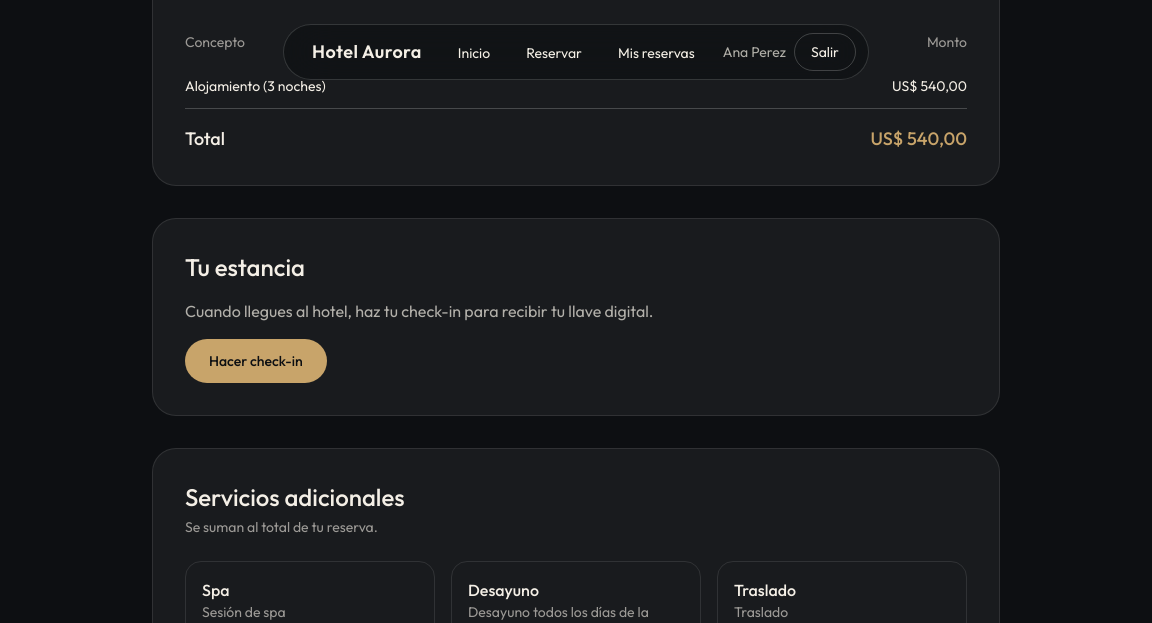
Test: Reservation management panel › asks for confirmation before checking out, then links to the invoice
(page scrolled)
Click the button "Hacer check-in" at (256, 361), box [185,339,327,383]
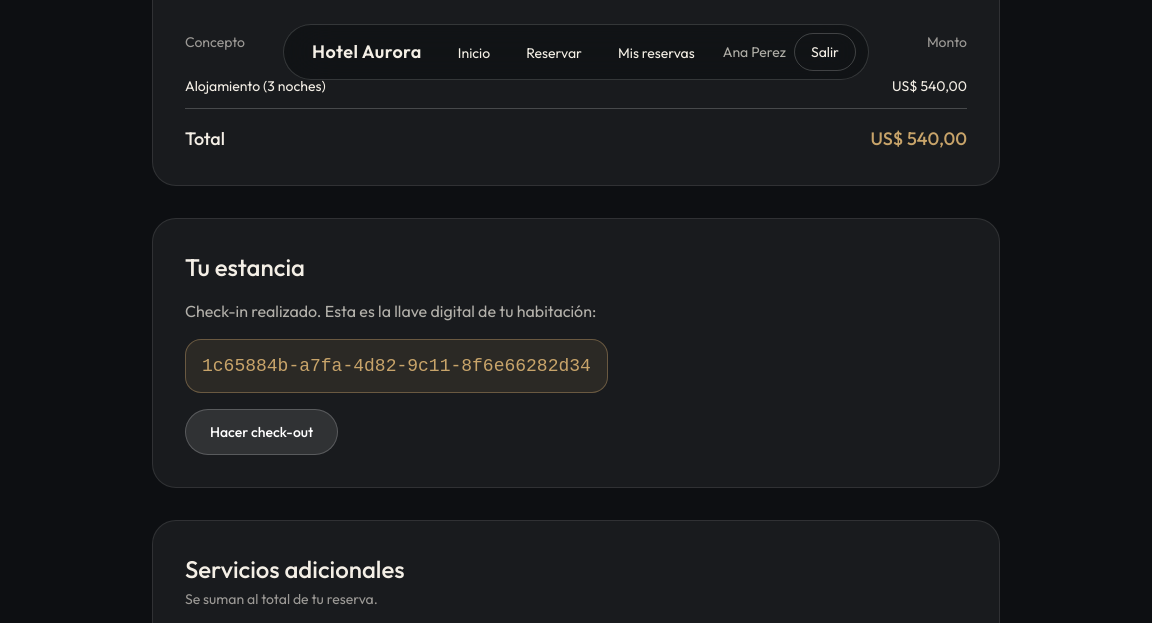
Result: the text named "Llave digital" is shown at [185,339,608,393]
Click the button "Hacer check-out" at (262, 432), box [185,409,338,455]
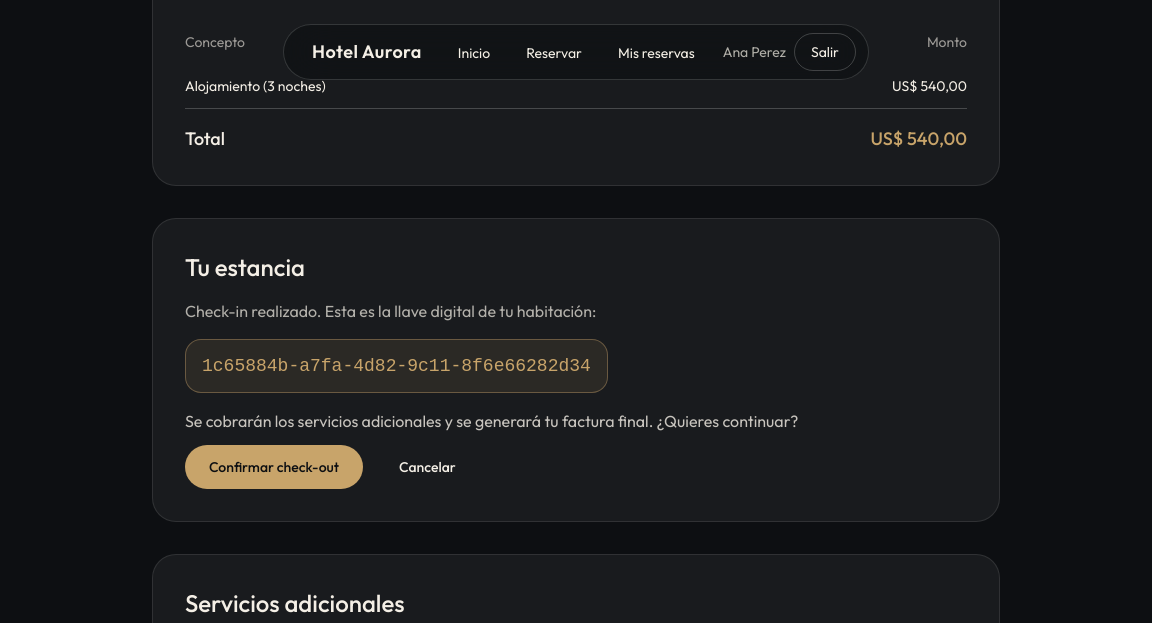
Click the button "Cancelar" at (427, 467), box [375,445,480,489]
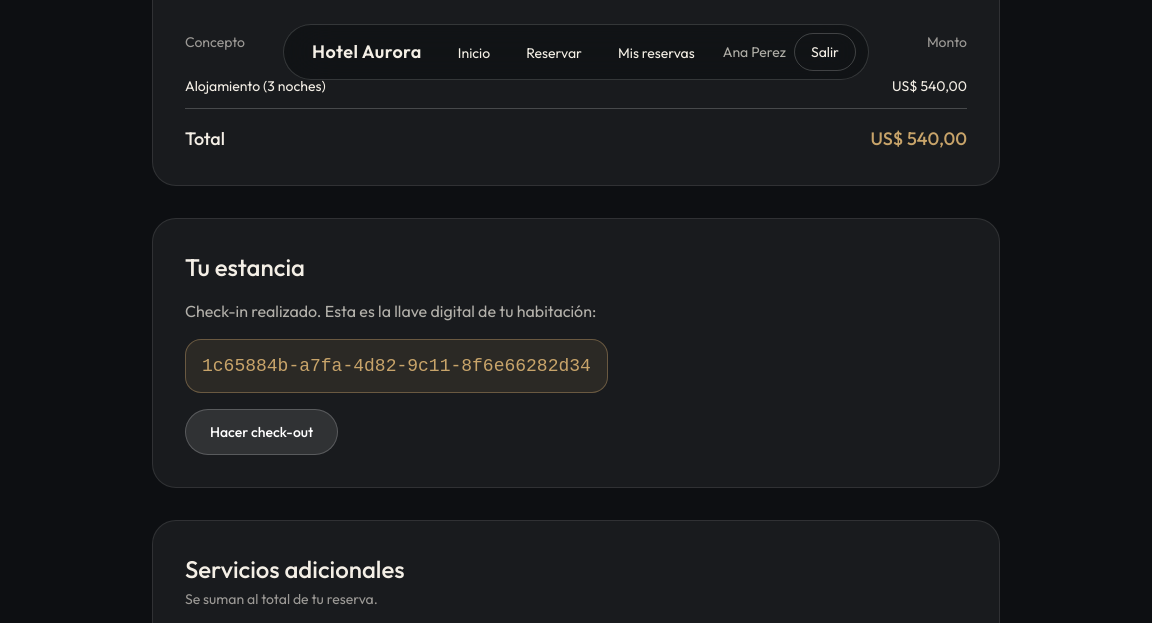
Result: the button "Hacer check-out" is shown
Click the button "Hacer check-out" at (262, 432), box [185,409,338,455]
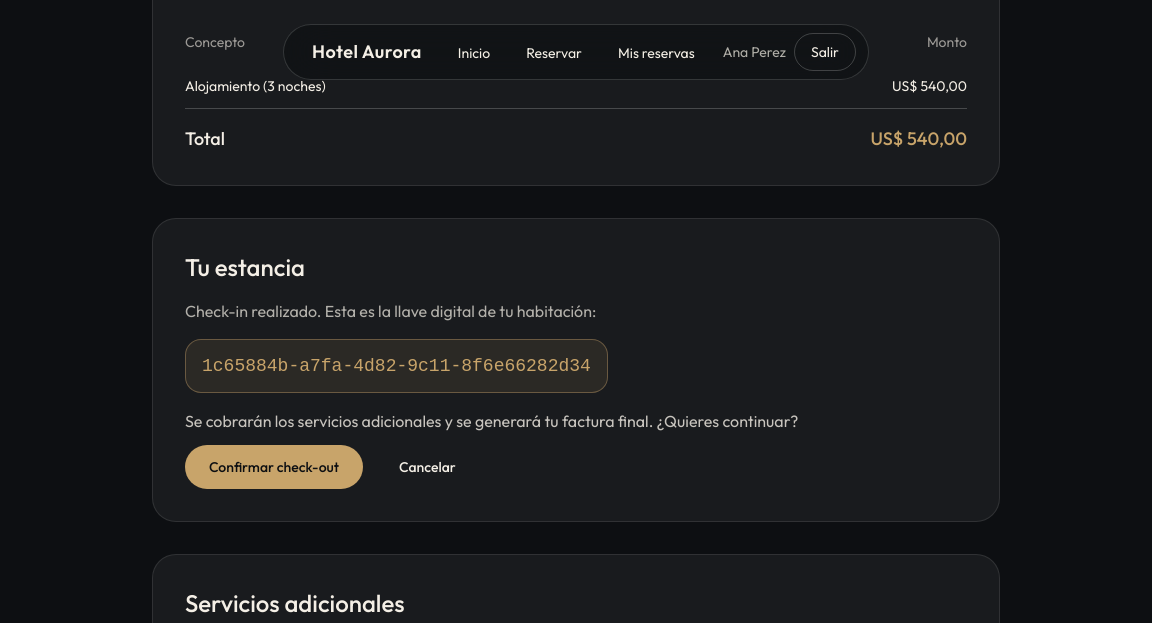
Click the button "Confirmar check-out" at (274, 467), box [185,445,363,489]
(page scrolled)
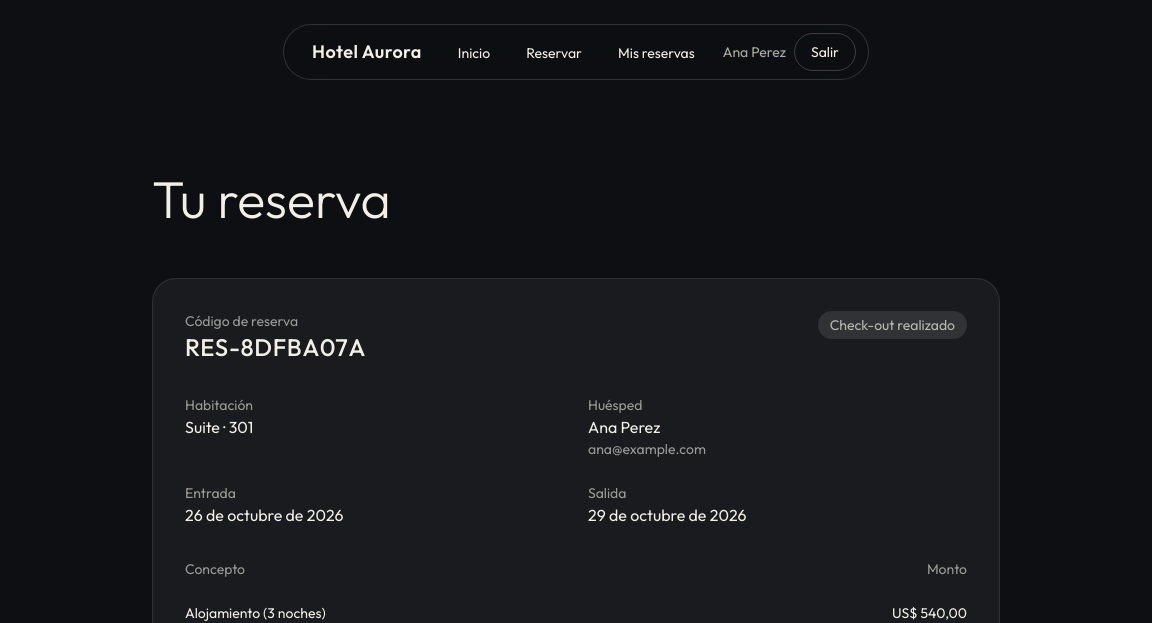
Result: the text "Check-out realizado" is shown at [818,311,967,339]
